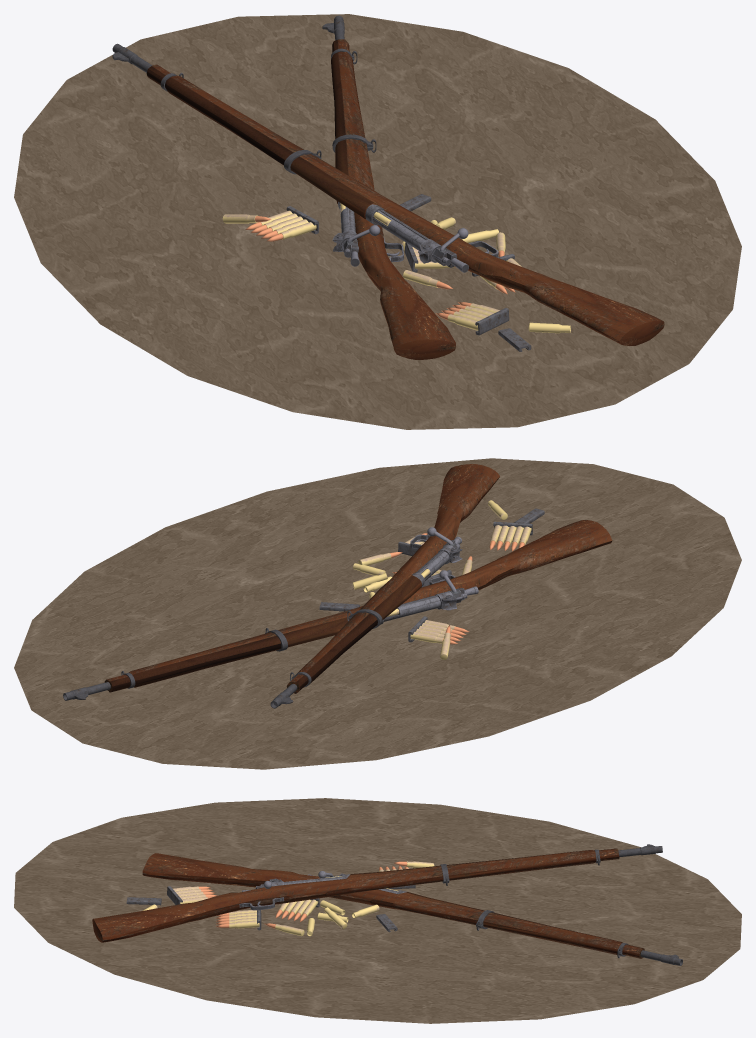
3 views of the same model, one above another, from view 1: azimuth 30°, elevation 25°; view 2: azimuth 150°, elevation 25°; view 3: azimuth 270°, elevation 25° (orthographic). The views are drawn at different scales.
Visible parts, largest first — view 1: g (×3), defaultMaterial__misc; view 2: g (×3), defaultMaterial__misc; view 3: g (×3), defaultMaterial__misc.
Boxes of the visible parts, box(x1,y1,x2,y2) form: g (×3): box(14, 14, 741, 429); defaultMaterial__misc: box(112, 15, 376, 172); g (×3): box(14, 458, 741, 769); defaultMaterial__misc: box(63, 609, 382, 708); g (×3): box(14, 798, 741, 1023); defaultMaterial__misc: box(441, 846, 682, 965).
Size of the model in its own units: 1.47 by 0.122 by 2.
4 materials, 4 textured.
